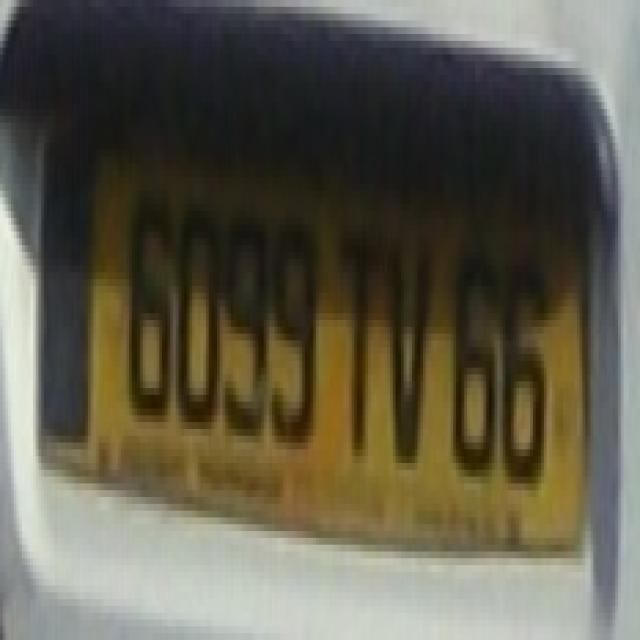Autre: (36, 130, 588, 551)
